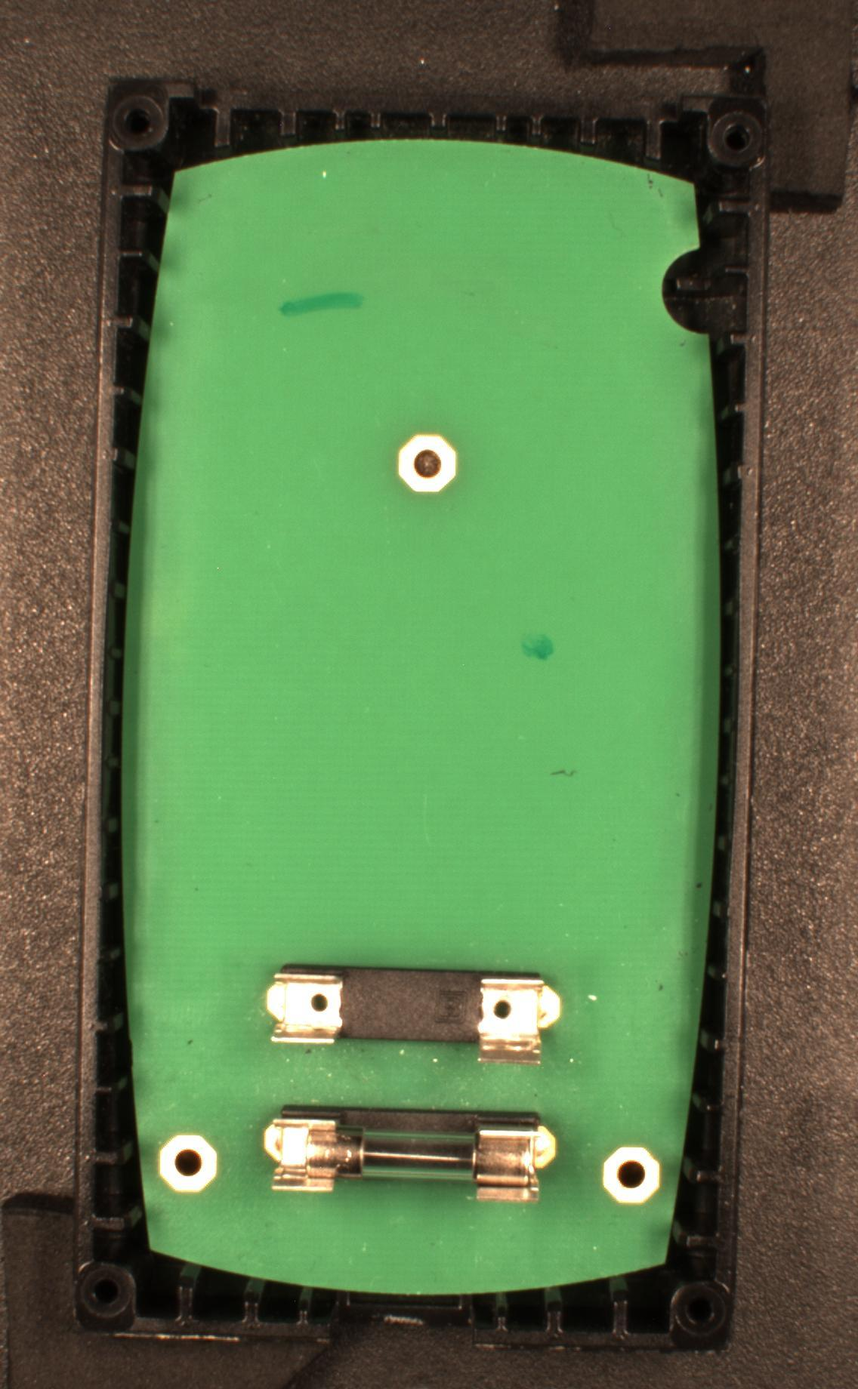Linijsko Ostecene: (277, 288, 365, 320)
Nepostojanje osiguraca: (263, 961, 561, 1068)
Tockasto Ostecenje: (521, 633, 556, 662)
